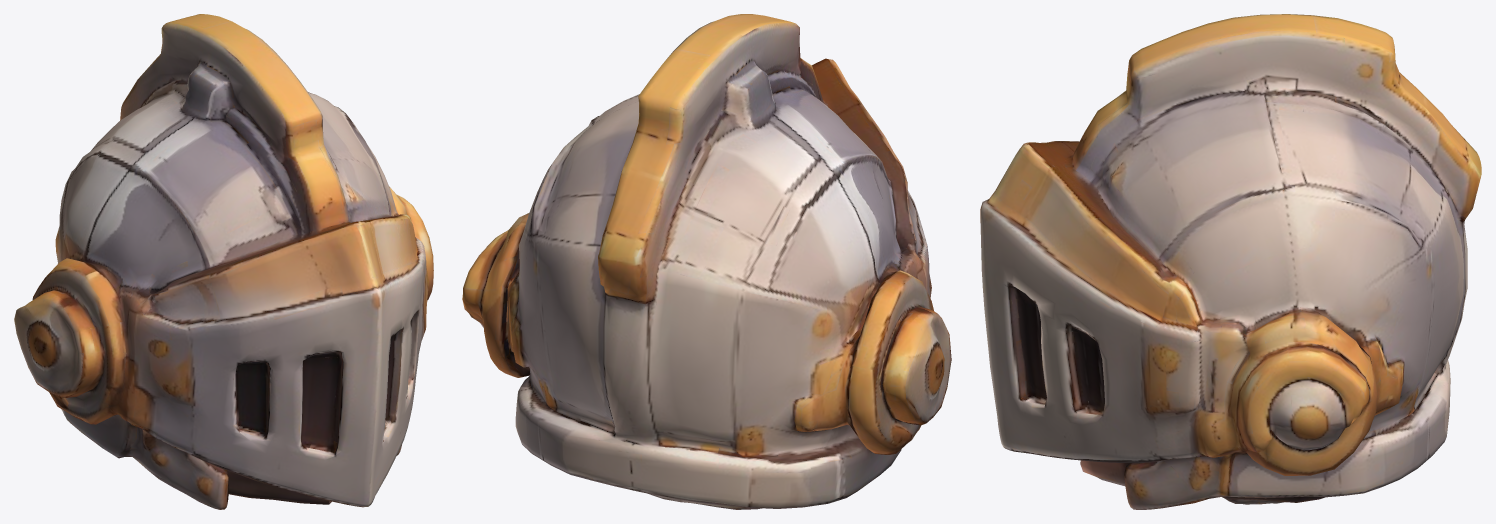
The picture shows the model from 3 angles, left to right: view 1: azimuth 30°, elevation 25°; view 2: azimuth 150°, elevation 25°; view 3: azimuth 270°, elevation 25°; orthographic projection. The views are drawn at different scales.
Visible parts, largest first — view 1: tripo_node_1eaa0871-5790-4e9c-9a92-f223cdc2da67; view 2: tripo_node_1eaa0871-5790-4e9c-9a92-f223cdc2da67; view 3: tripo_node_1eaa0871-5790-4e9c-9a92-f223cdc2da67.
Boxes of the visible parts, left/top/right/bottom form: tripo_node_1eaa0871-5790-4e9c-9a92-f223cdc2da67: left=14, top=14, right=433, bottom=509; tripo_node_1eaa0871-5790-4e9c-9a92-f223cdc2da67: left=462, top=14, right=951, bottom=509; tripo_node_1eaa0871-5790-4e9c-9a92-f223cdc2da67: left=980, top=14, right=1481, bottom=509.
Size of the model in its own units: 0.4404 by 0.4321 by 0.4372.
Materials: 1 (1 with a texture image).
